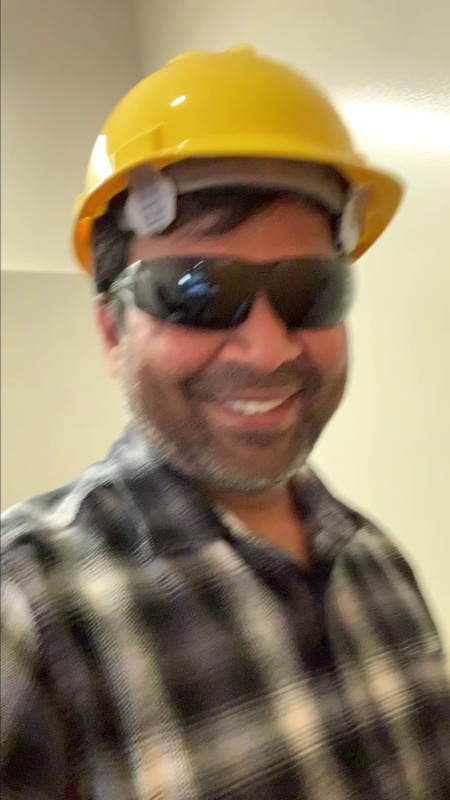glasses: (122, 252, 358, 332)
helmet: (93, 38, 377, 163)
